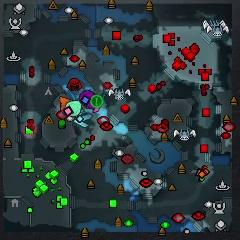Other: (91, 94, 103, 108)
p2: (65, 100, 82, 118)
p3: (79, 89, 95, 108)
p5: (57, 95, 71, 111)
x3: (74, 114, 91, 128)
